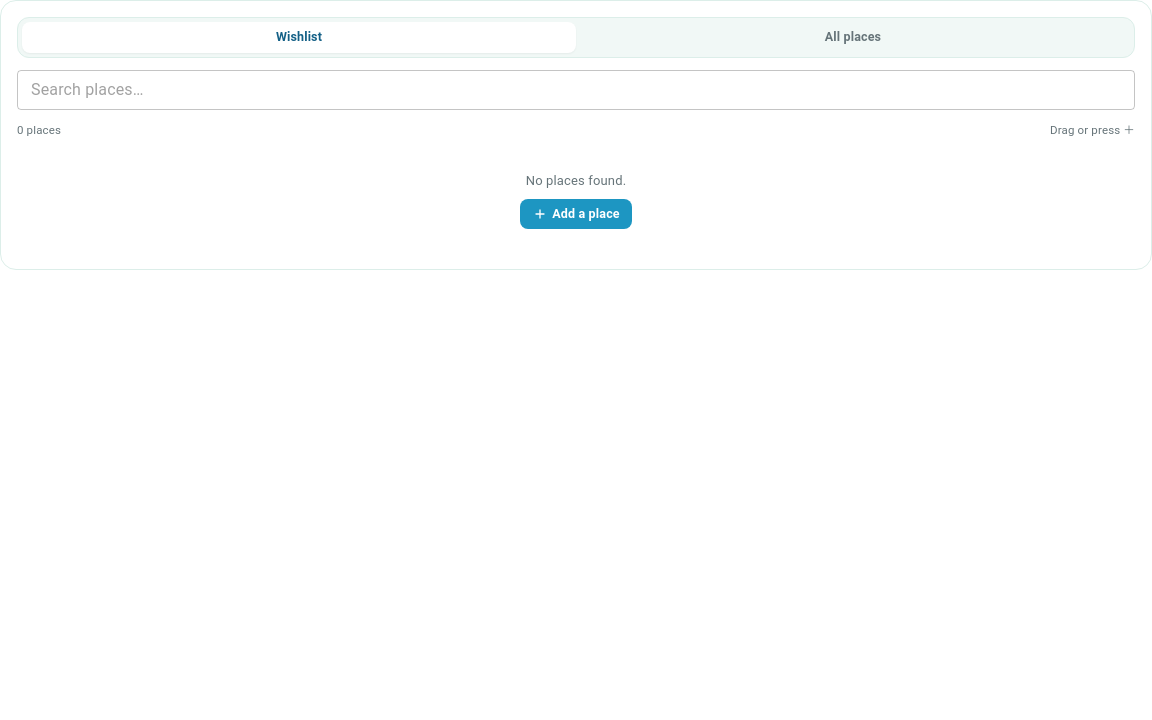
Test case: Bước 2 — tạo place ngay trong panel chọn địa điểm › tìm không ra thì mở form với tên đã gõ và vùng của chuyến đi điền sẵn
Click the button "All places". click: point(853, 37)
box: [576,22,1130,53]
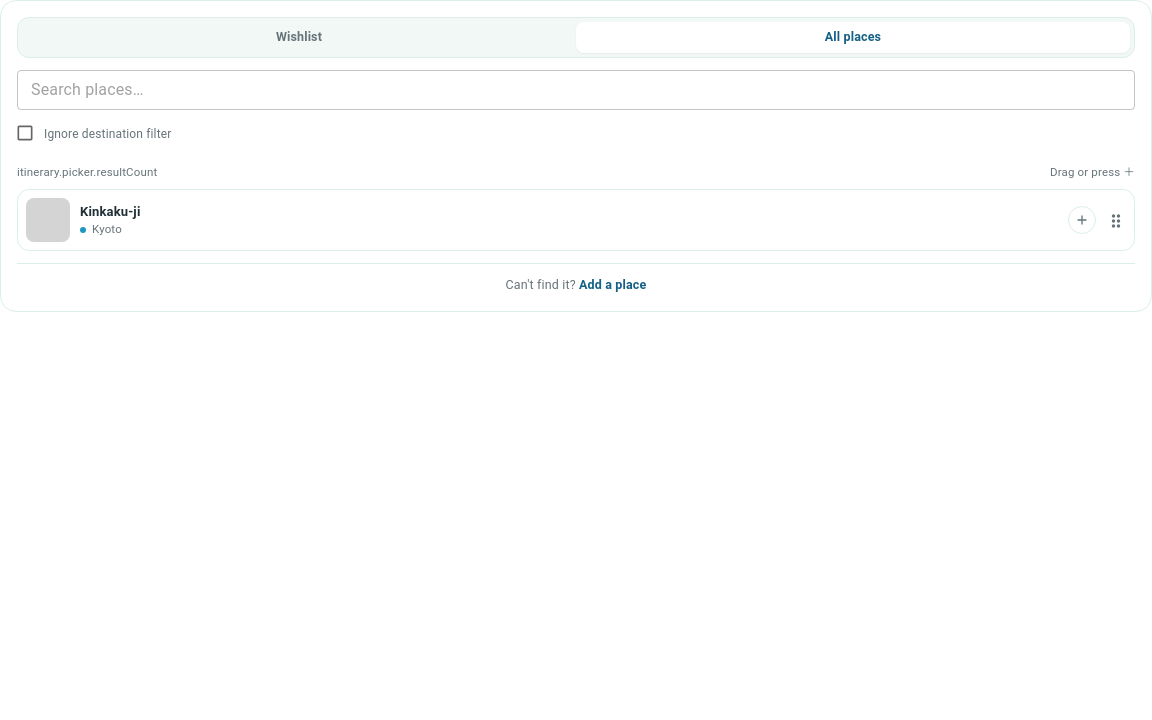
Type "Quán ramen nhà Kenji" into the field with placeholder "Search places…". click: point(576, 90)
box: [17,70,1135,110]
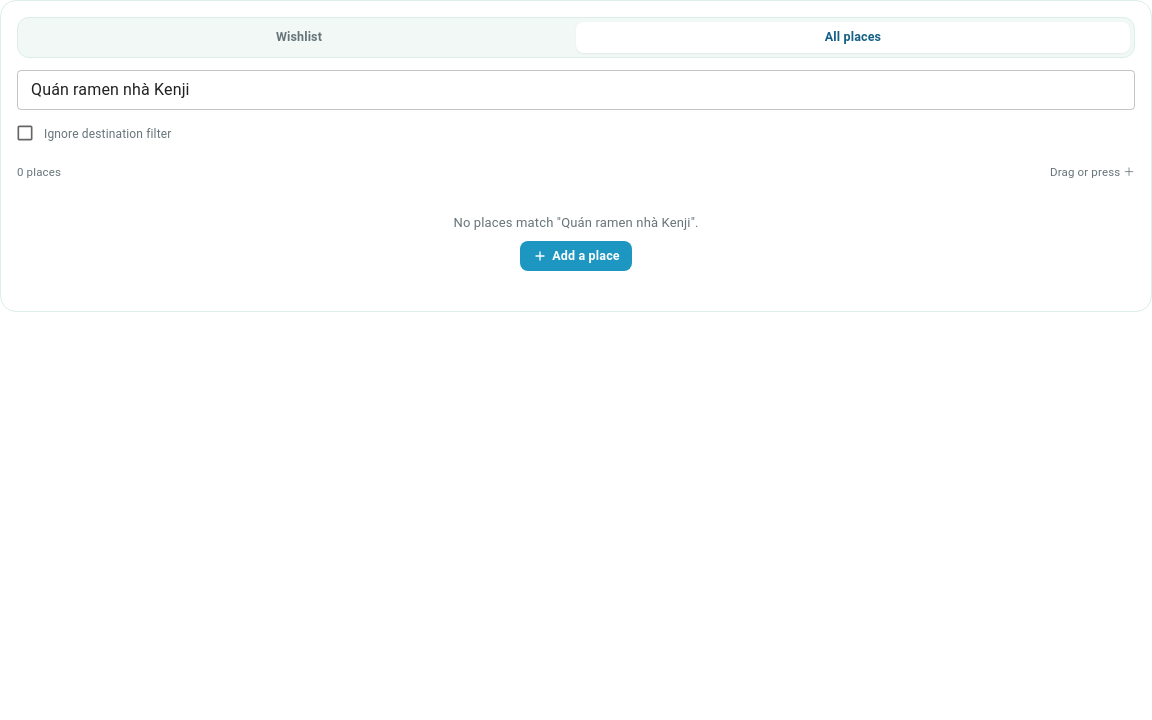
Check: the text "No places match \"Quán ramen nhà Kenji\"." is shown, box [454,213,699,232]
Click the button "Add a place". click: point(576, 256)
box: [520,240,632,271]
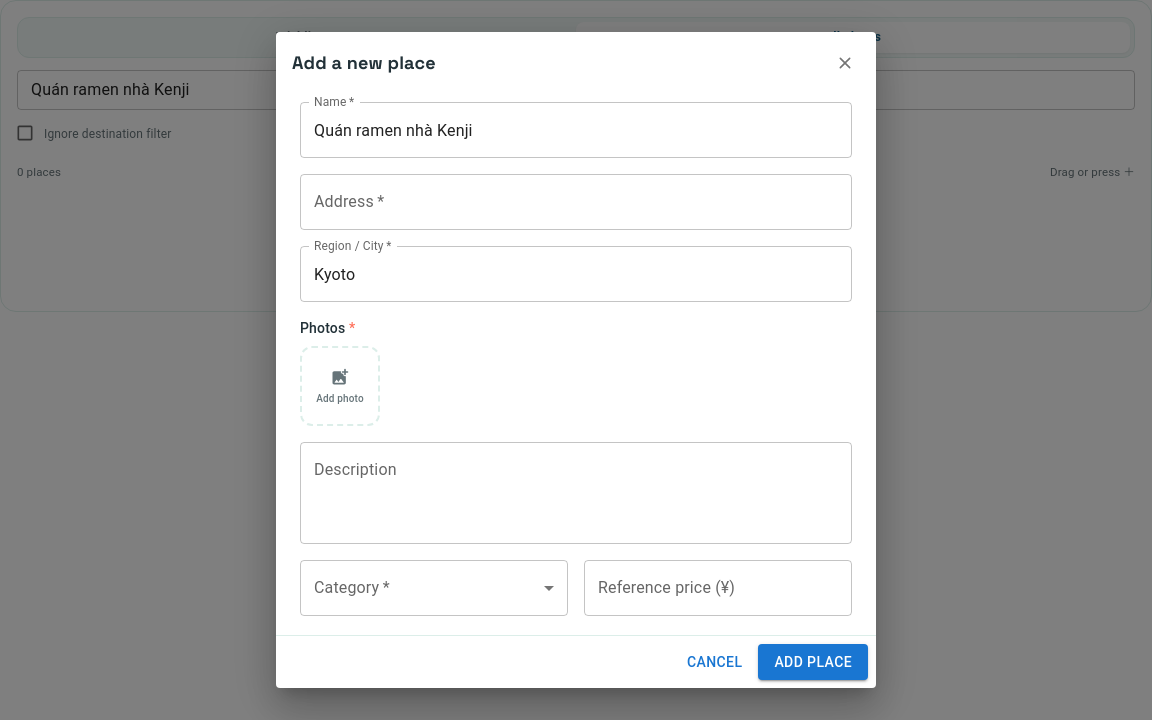
Check: the field labelled "Name *" holds "Quán ramen nhà Kenji", box [300,102,852,158]
Check: the dropdown showing "Kyoto" is shown, box [309,255,813,293]
